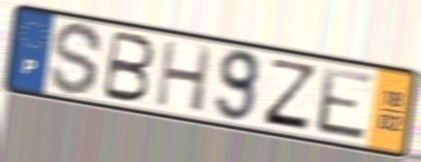9: (211, 46, 262, 126)
B: (99, 28, 158, 106)
E: (315, 63, 376, 144)
H: (153, 38, 215, 115)
S: (47, 20, 106, 99)
Z: (260, 56, 319, 134)
